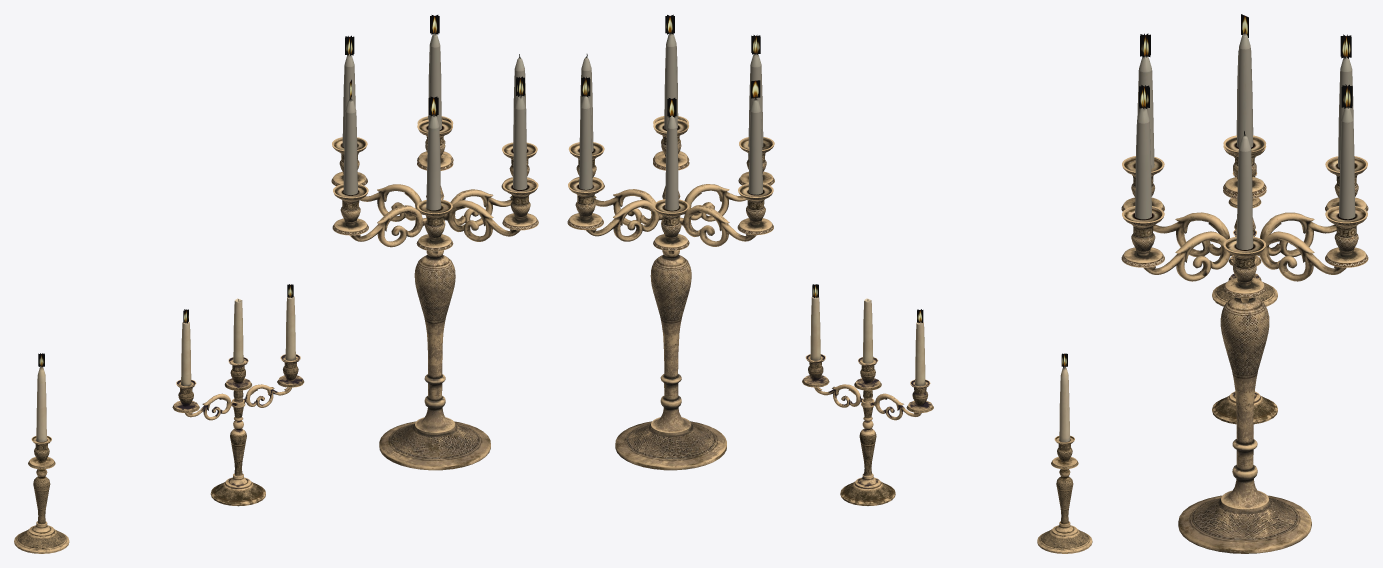
Rendered from brass_candleholders.glb.
The picture shows the model from 3 angles, left to right: view 1: azimuth 30°, elevation 25°; view 2: azimuth 150°, elevation 25°; view 3: azimuth 270°, elevation 25°; orthographic projection. The views are drawn at different scales.
Parts seen in each view (by area): view 1: brass_candleholder_03_mesh, brass_candleholder_02_mesh, brass_candleholder_01_mesh; view 2: brass_candleholder_03_mesh, brass_candleholder_02_mesh, brass_candleholder_01_mesh; view 3: brass_candleholder_03_mesh, brass_candleholder_02_mesh, brass_candleholder_01_mesh.
Boxes of the visible parts, x1=… form: brass_candleholder_03_mesh: x1=331, y1=15, x2=538, y2=470; brass_candleholder_02_mesh: x1=172, y1=284, x2=304, y2=506; brass_candleholder_01_mesh: x1=14, y1=353, x2=69, y2=553; brass_candleholder_03_mesh: x1=567, y1=14, x2=774, y2=470; brass_candleholder_02_mesh: x1=802, y1=284, x2=933, y2=505; brass_candleholder_01_mesh: x1=1037, y1=353, x2=1092, y2=553; brass_candleholder_03_mesh: x1=1121, y1=14, x2=1368, y2=553; brass_candleholder_02_mesh: x1=1212, y1=230, x2=1277, y2=424; brass_candleholder_01_mesh: x1=1212, y1=172, x2=1277, y2=306.
Size of the model in its own units: 1.05 by 0.8095 by 0.3647.
Materials: 5 (5 with a texture image).
